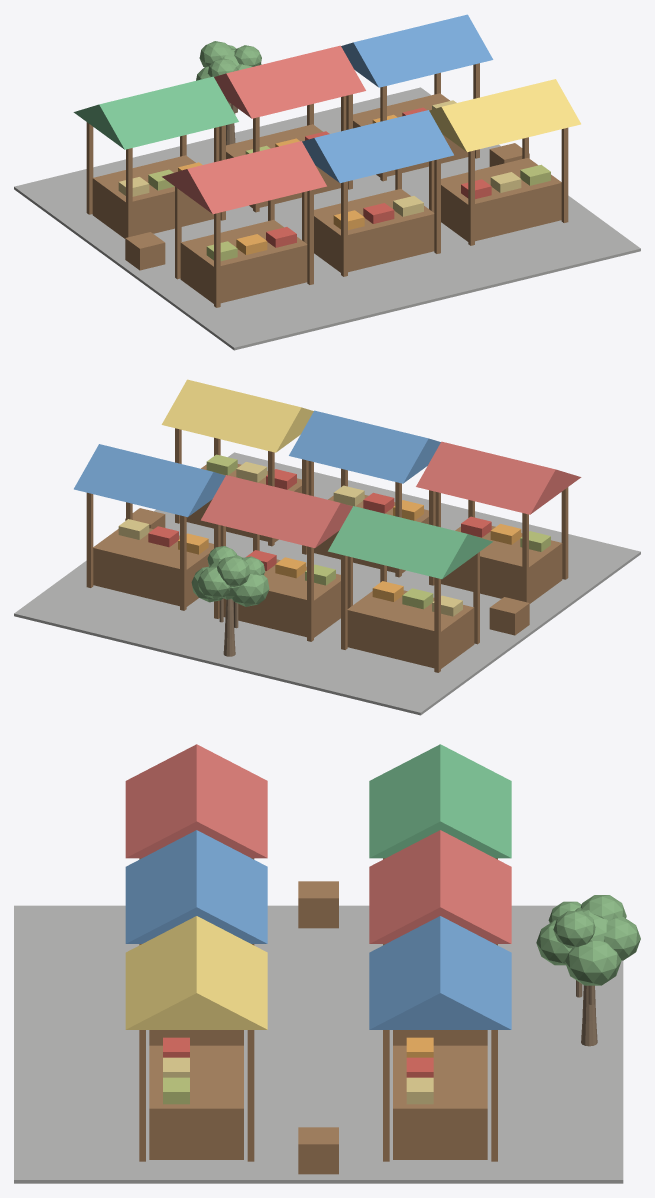
File: market.fbx
3 renders of one model, top to bottom at view 1: azimuth 30°, elevation 25°; view 2: azimuth 150°, elevation 25°; view 3: azimuth 270°, elevation 25°, orthographic. The views are drawn at different scales.
Visible parts, largest first — view 1: market; view 2: market; view 3: market.
Boxes of the visible parts, x1,y1,x2,y2 form: market: (14, 14, 640, 350); market: (14, 379, 640, 715); market: (14, 744, 640, 1183).
Size of the model in its own units: 960 by 290 by 926.
